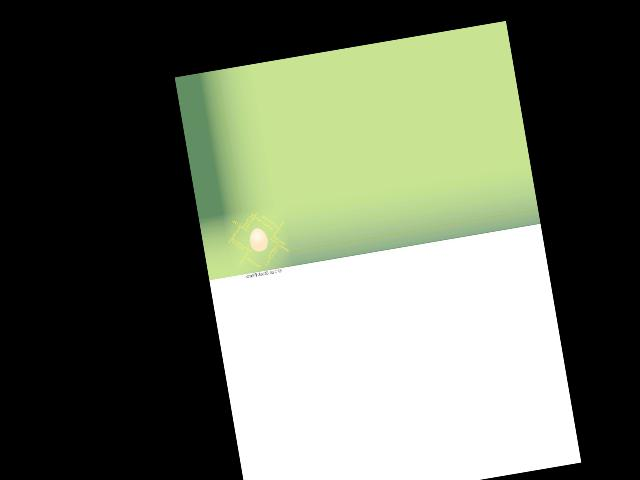egg: (247, 226, 269, 252)
